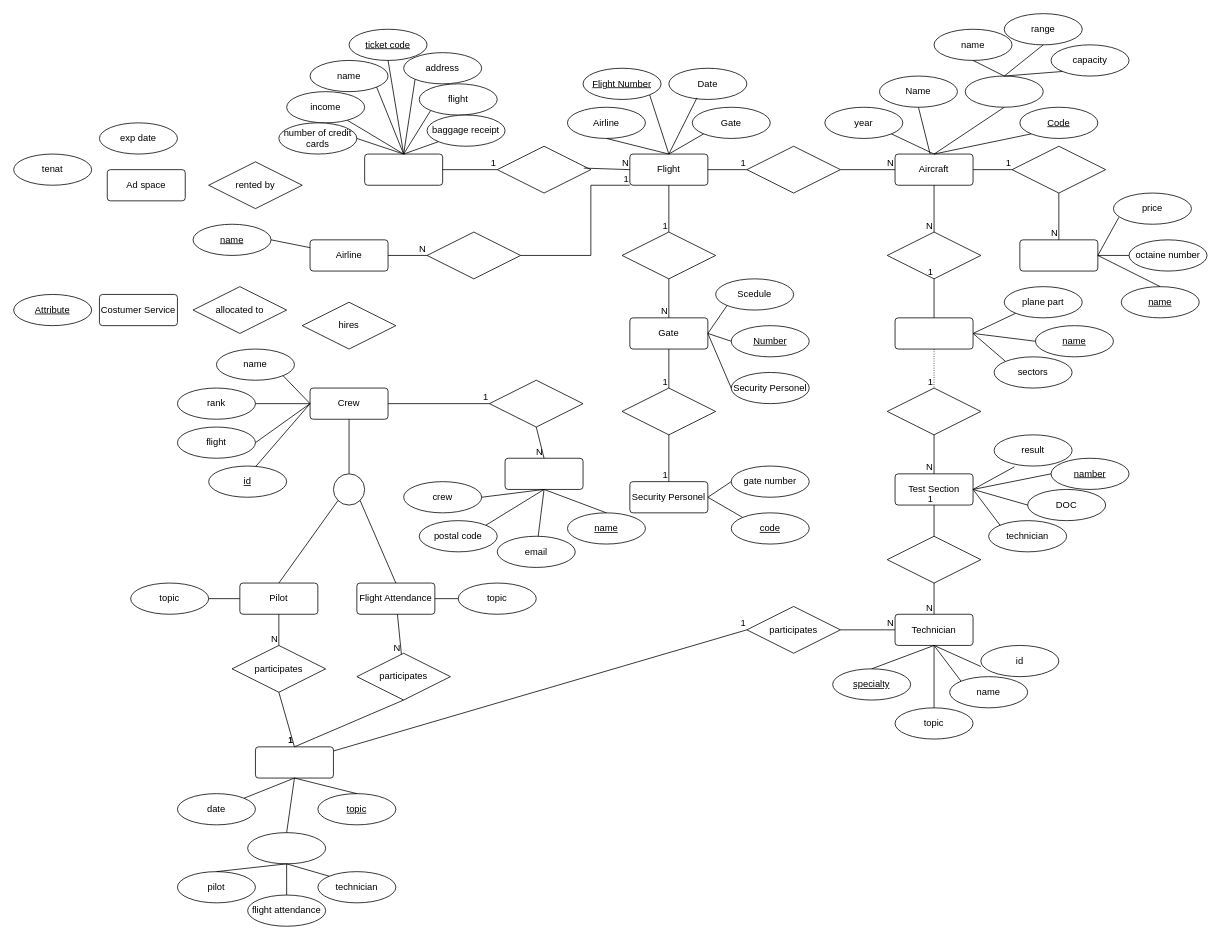
The diagram is 1221 pixels wide and 940 high, and some of its shapes have lost their labels. Here are the shapes that lost their labels. From the top down, the centre of each, then its label:
At point 1003,91: "Type".
At point 403,169: "Passenders".
At point 543,169: "rides".
At point 793,169: "uses".
At point 1058,169: "runs on".
At point 473,255: "performs".
At point 668,255: "assigned to".
At point 933,255: "is tested".
At point 1058,255: "fuel".
At point 933,333: "Test".
At point 536,403: "stays".
At point 668,411: "guarded by".
At point 933,411: "contains".
At point 543,473: "Hotel".
At point 933,559: "performed by".
At point 294,762: "Meeting".
At point 286,848: "participants".
